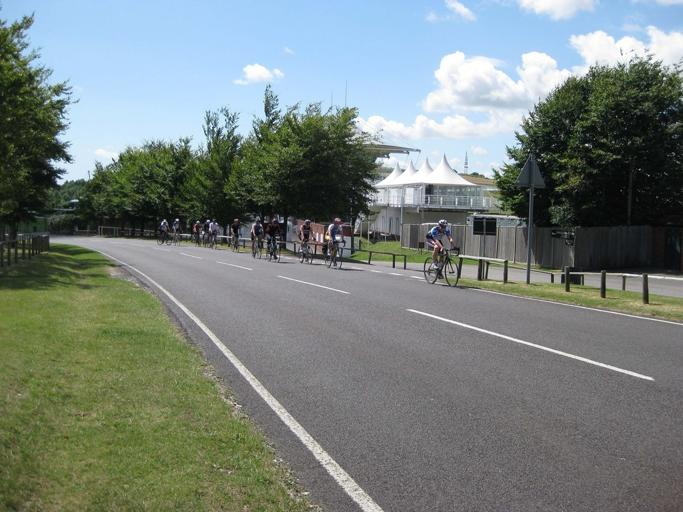non-vehicle: (423, 247, 460, 287), (324, 240, 345, 269), (265, 234, 280, 263), (298, 238, 314, 263), (251, 232, 261, 258), (230, 233, 241, 252)
